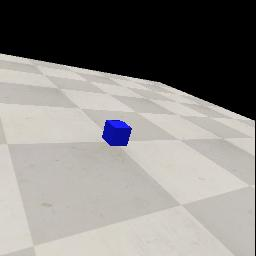box: (102, 120, 132, 146)
